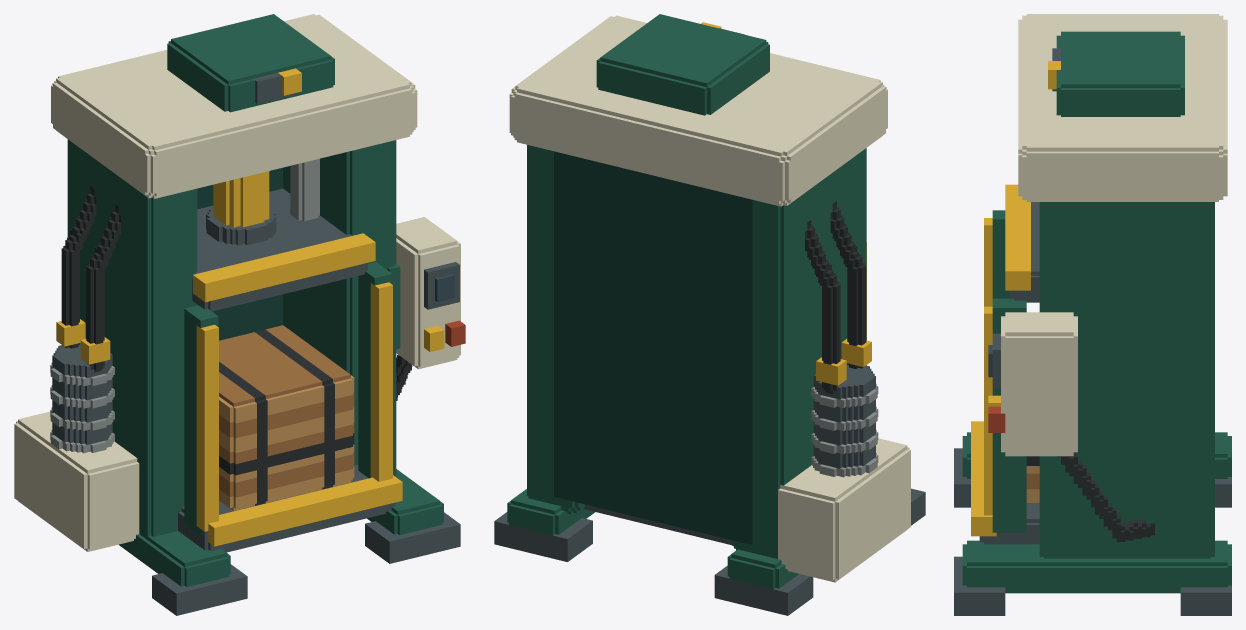
The model's file is compactor.glb.
3 views of the same model, side by side, from view 1: azimuth 30°, elevation 25°; view 2: azimuth 150°, elevation 25°; view 3: azimuth 270°, elevation 25° (orthographic). The views are drawn at different scales.
Visible parts, largest first — view 1: compactor; view 2: compactor; view 3: compactor.
Part boxes in pixels (<box>): compactor: <box>14,14,465,615</box>; compactor: <box>494,14,925,615</box>; compactor: <box>954,14,1231,615</box>.
Size of the model in its own units: 4.41 by 5.72 by 2.92.
